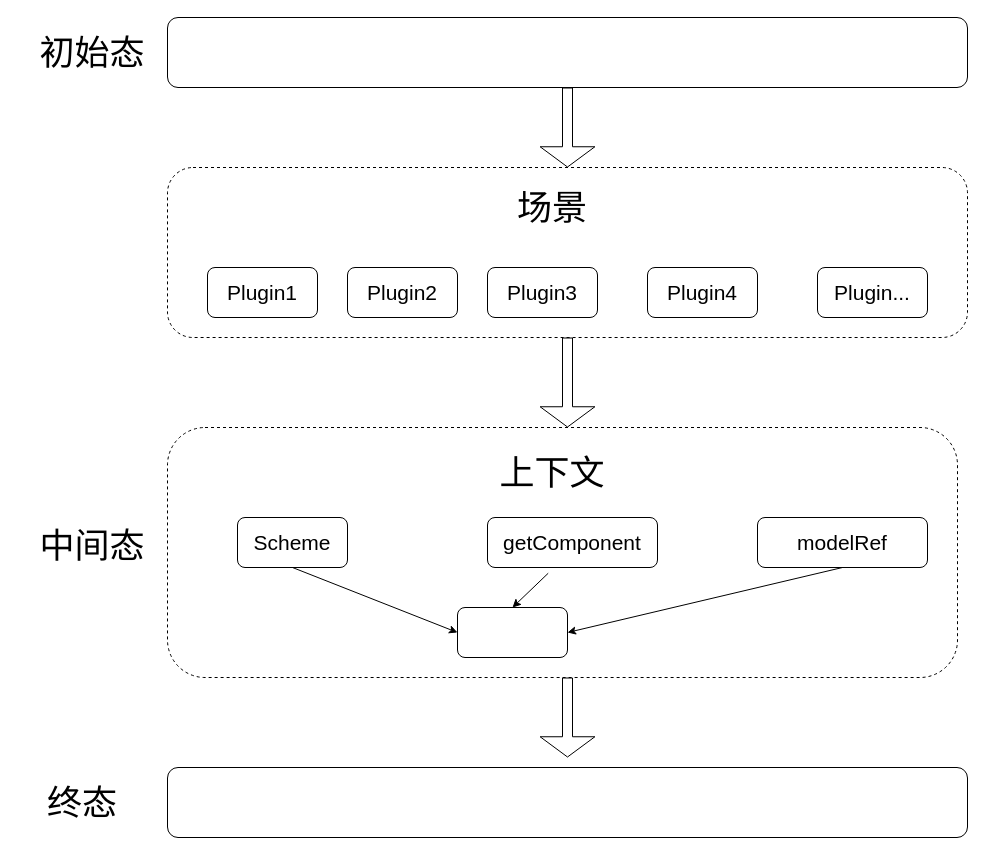
Image size: 985x855. Some labels were removed from this diagram. Each missing label, with the box of its shape:
Fields、ComponentDesc: (166, 16, 968, 88)
render: (456, 606, 568, 658)
vNode => KoalaRender or Vue Render: (166, 766, 968, 838)
